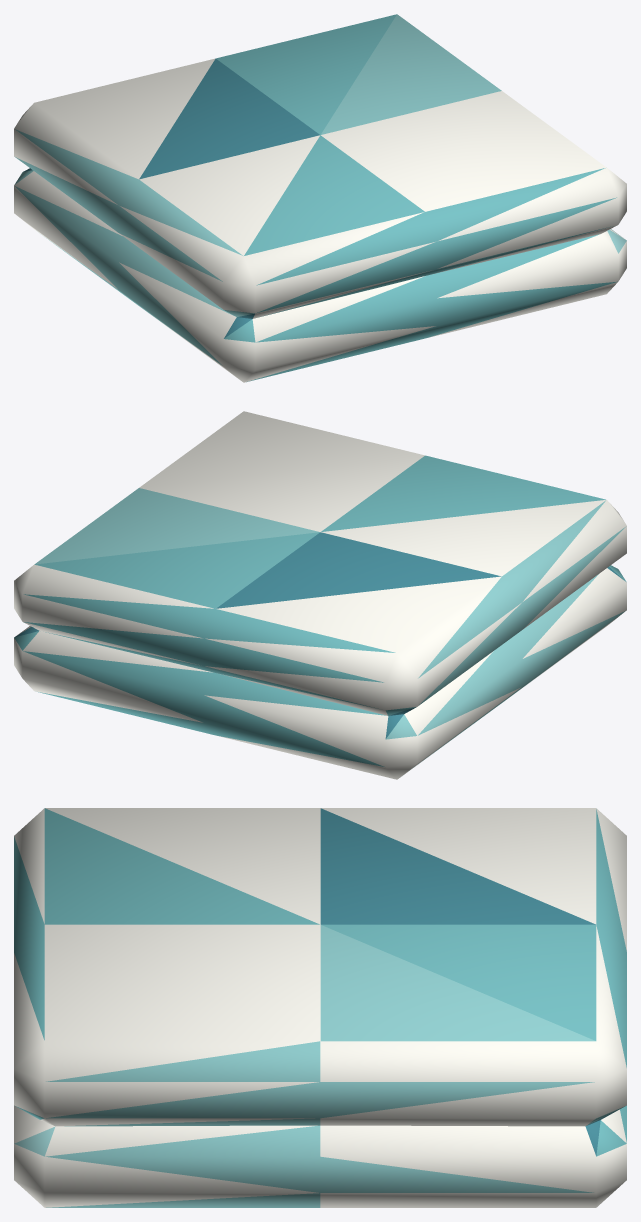
File: itch_tiny_pleasant_picnic_picnic_blanket_blue_folded.glb
The picture shows the model from 3 angles, top to bottom: view 1: azimuth 30°, elevation 25°; view 2: azimuth 150°, elevation 25°; view 3: azimuth 270°, elevation 25°; orthographic projection. The views are drawn at different scales.
Parts seen in each view (by area): view 1: picnic_blanket_blue_folded; view 2: picnic_blanket_blue_folded; view 3: picnic_blanket_blue_folded.
Part boxes in pixels (x1,y1,x2,y2): picnic_blanket_blue_folded: (14, 14, 626, 382); picnic_blanket_blue_folded: (14, 411, 626, 779); picnic_blanket_blue_folded: (14, 808, 626, 1207).
Size of the model in its own units: 0.96 by 0.288 by 0.96.
